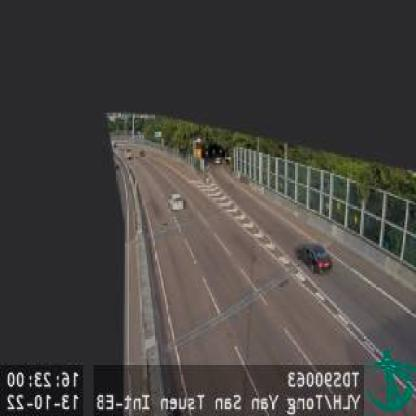Car: (294, 242, 332, 275), (166, 192, 186, 211)
